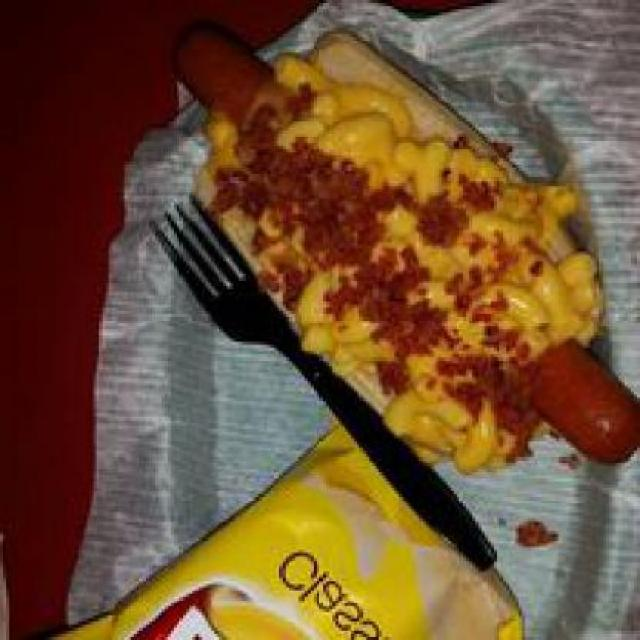hot dog: (525, 286, 637, 466), (156, 9, 292, 122)
macaroni and cheese: (210, 83, 584, 451)
